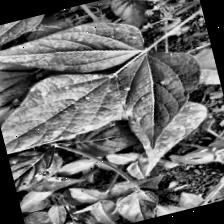Bean Rust: (0, 58, 150, 159), (114, 40, 212, 150), (114, 97, 216, 172), (0, 12, 55, 53), (136, 0, 202, 26)
